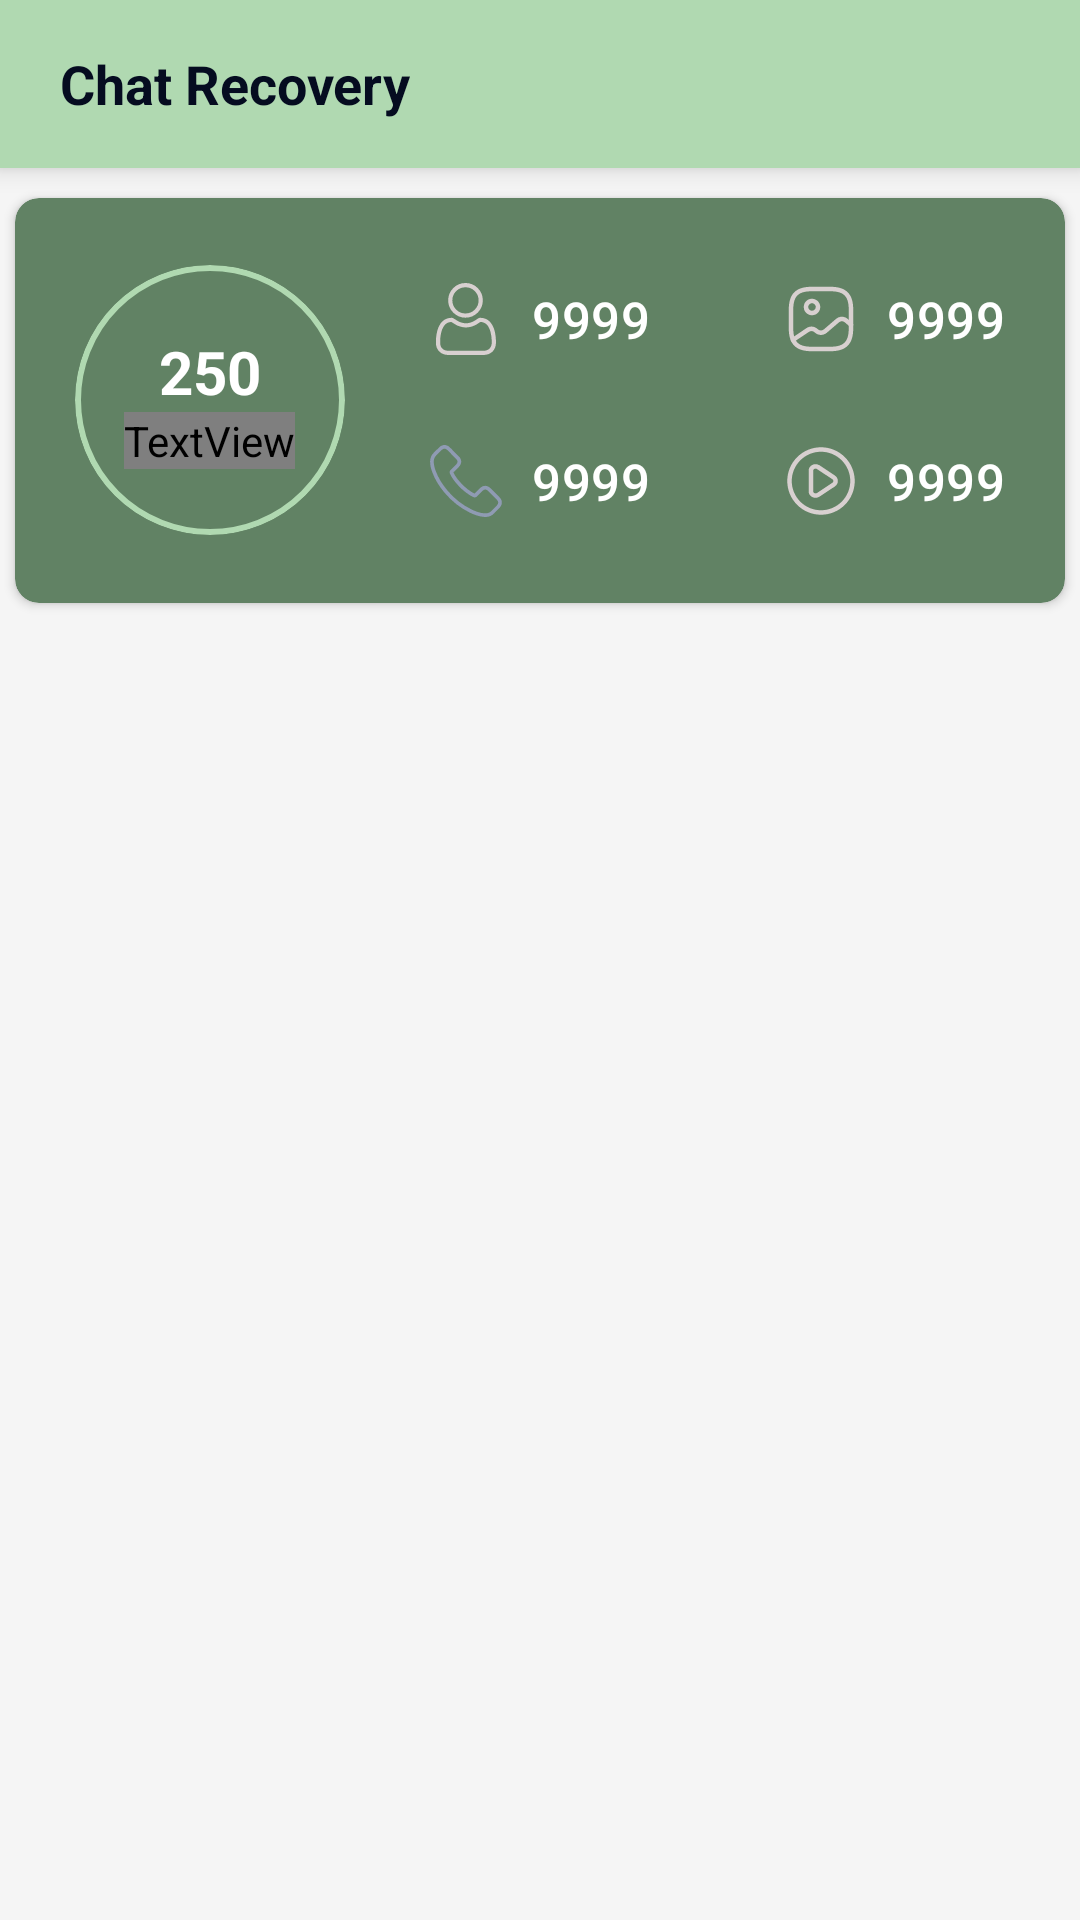

Icons on this 1080px x 1920px Android screen, each with the point to tap as (x,y):
call: (466,481)
person: (466,319)
photos: (821,319)
videos: (821,481)
